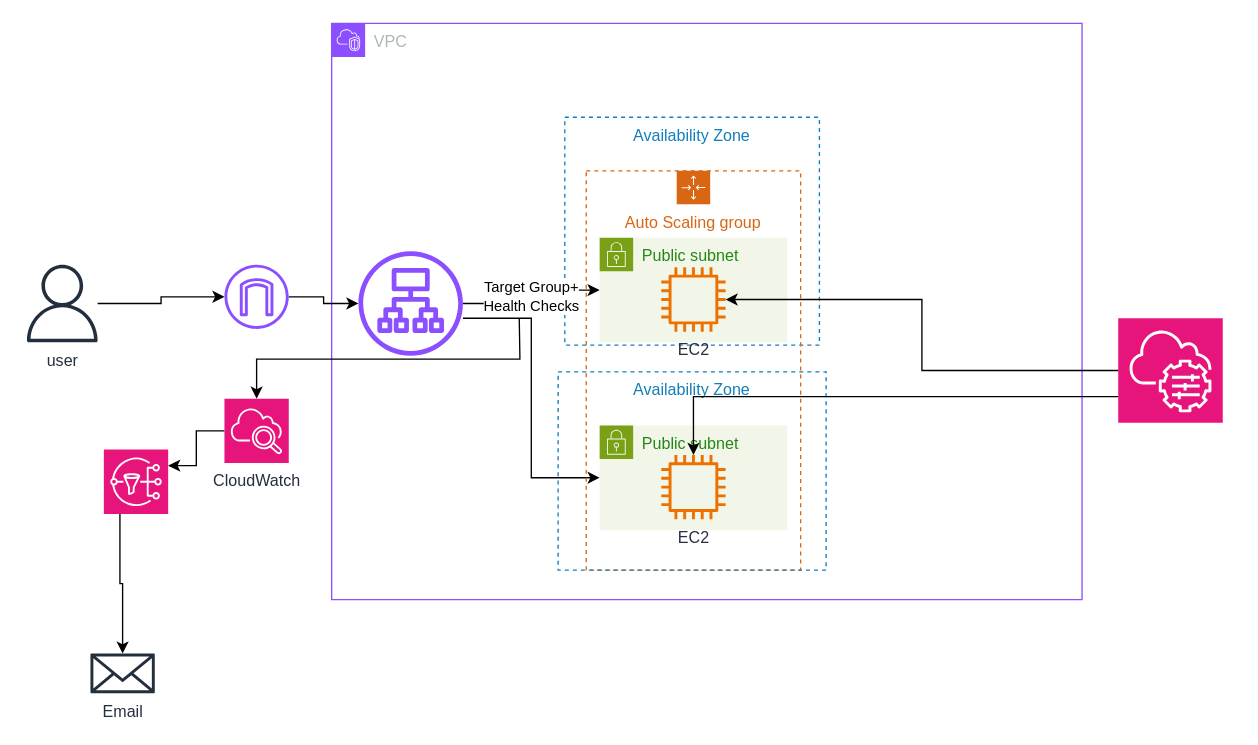
Image size: 1258x745. Some labels were removed from this diagram. Each missing label, with the centre of its shape:
"ALB" belongs at pixel 410 303.
"IGW" belongs at pixel 256 296.
"SNS" belongs at pixel 135 481.
"Systems Manager" belongs at pixel 1170 370.
